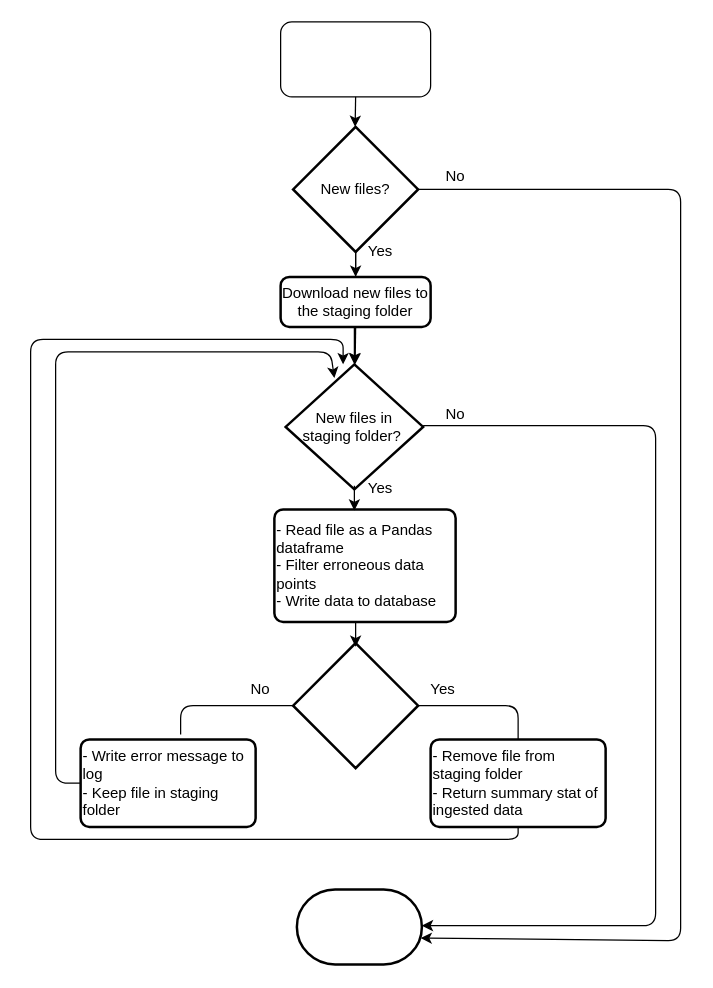
Some shapes in this 713 by 988 pixel diagram are drawn without their labels. The centre of each missing label's shape, as x and y in pixels:
"Check for new files in Google Drive" belongs at [355,59].
"DB write successful?" belongs at [355,705].
"END" belongs at [358,926].
